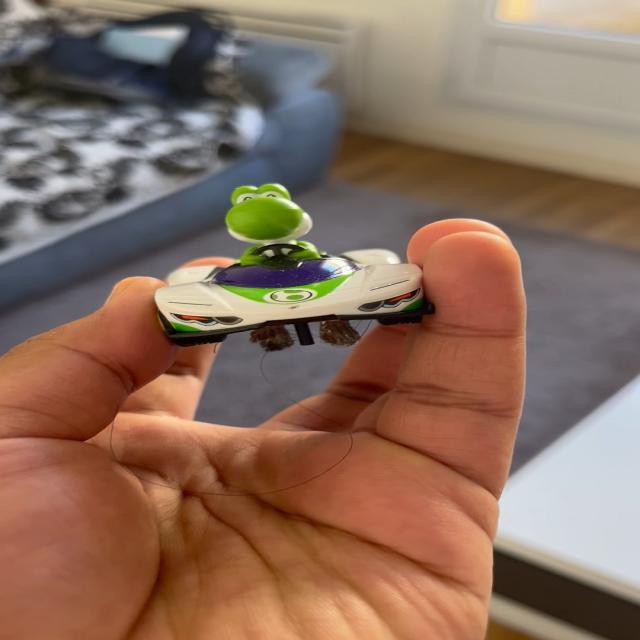yoshi: (137, 172, 435, 338)
